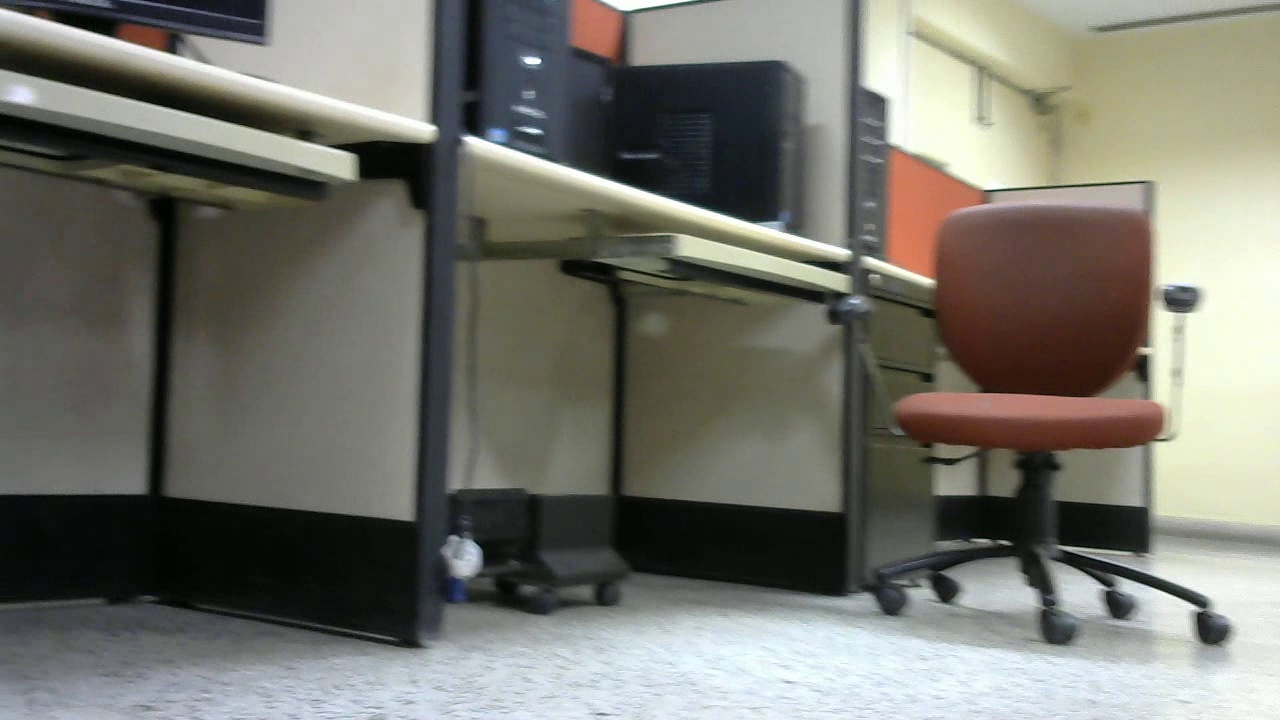chair: (480, 1, 936, 681), (2, 200, 164, 503)
